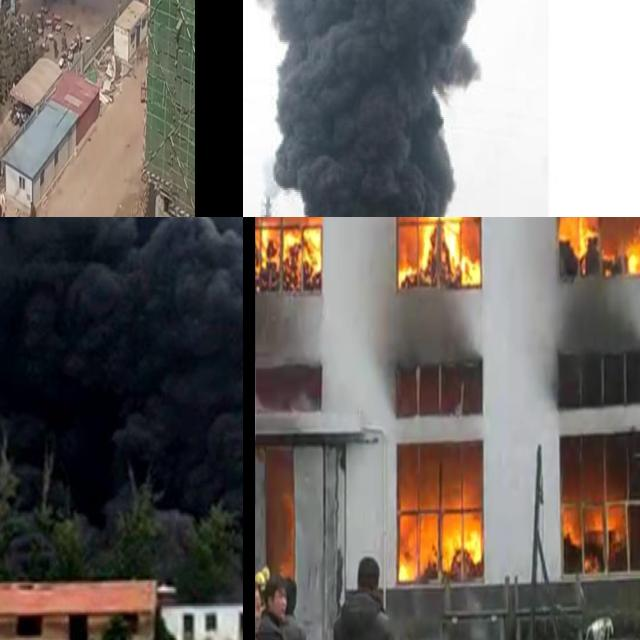fire: (394, 503, 482, 579), (394, 217, 481, 288), (550, 217, 640, 277), (254, 217, 324, 286), (563, 502, 625, 560), (562, 508, 580, 543)
smoke: (0, 217, 243, 578), (247, 0, 487, 217), (383, 289, 474, 368)
